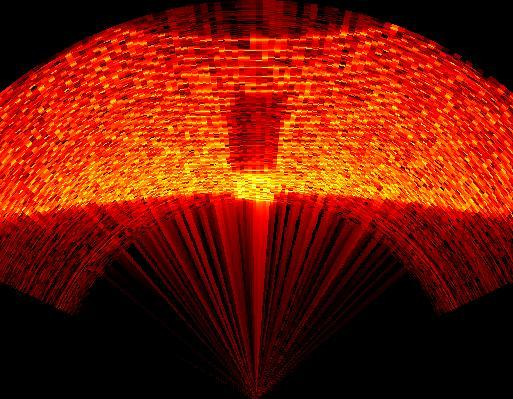box_crate: (226, 100, 286, 171)
